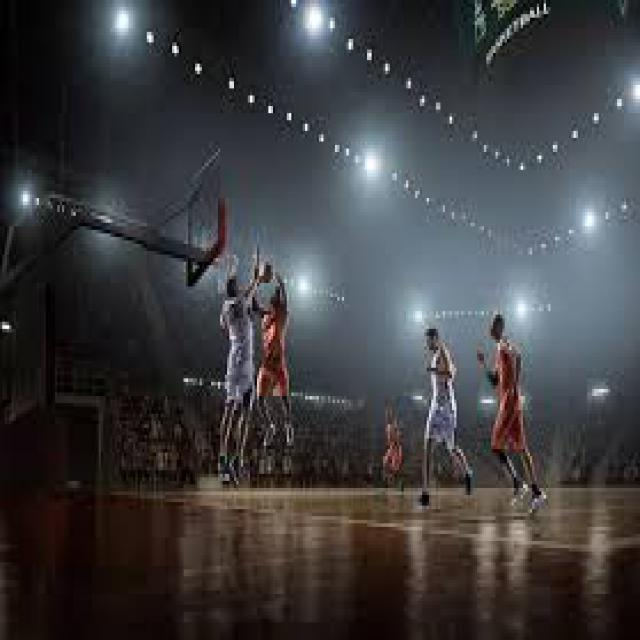basketball: (259, 258, 273, 283)
rim: (216, 251, 240, 269)
